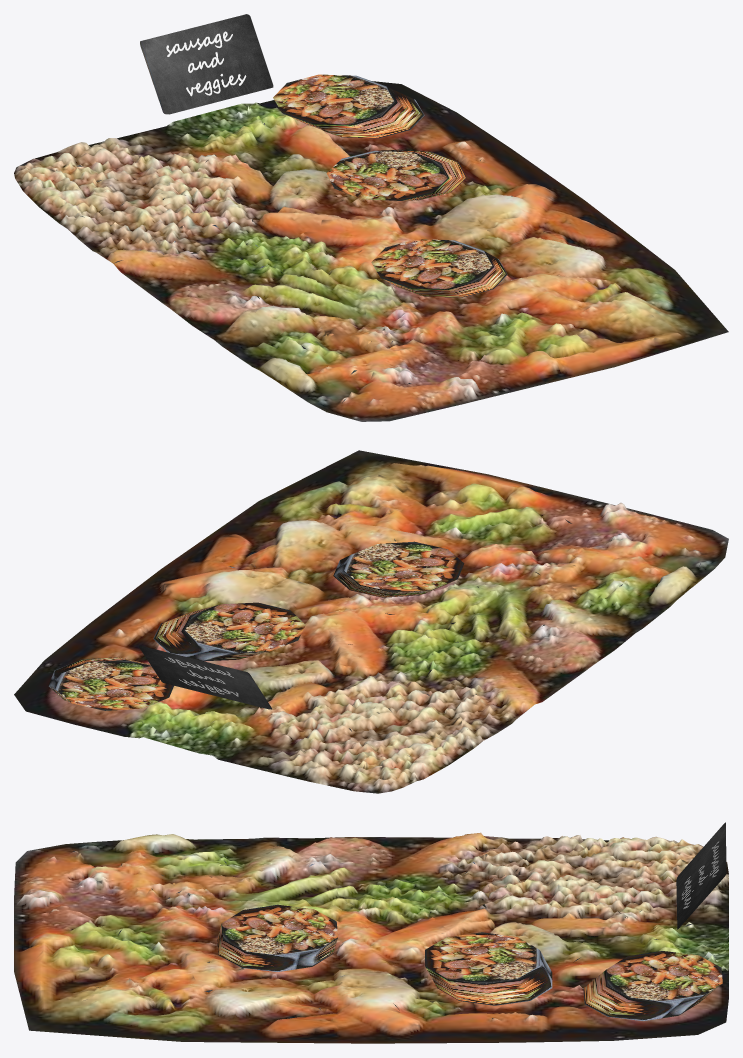
The model's file is food_tray_6.glb.
3 views of the same model, one above another, from view 1: azimuth 30°, elevation 25°; view 2: azimuth 150°, elevation 25°; view 3: azimuth 270°, elevation 25° (orthographic).
Parts seen in each view (by area): view 1: Material2.005, Material2.007; view 2: Material2.005, Material2.007; view 3: Material2.005, Material2.007.
Boxes of the visible parts, x1=… form: Material2.005: x1=14, y1=74, x2=728, y2=421; Material2.007: x1=140, y1=14, x2=273, y2=114; Material2.005: x1=14, y1=450, x2=728, y2=793; Material2.007: x1=138, y1=645, x2=271, y2=709; Material2.005: x1=14, y1=832, x2=728, y2=1043; Material2.007: x1=676, y1=822, x2=726, y2=929.
Size of the model in its own units: 6.81 by 1.44 by 10.02.
Materials: 2 (2 with a texture image).
